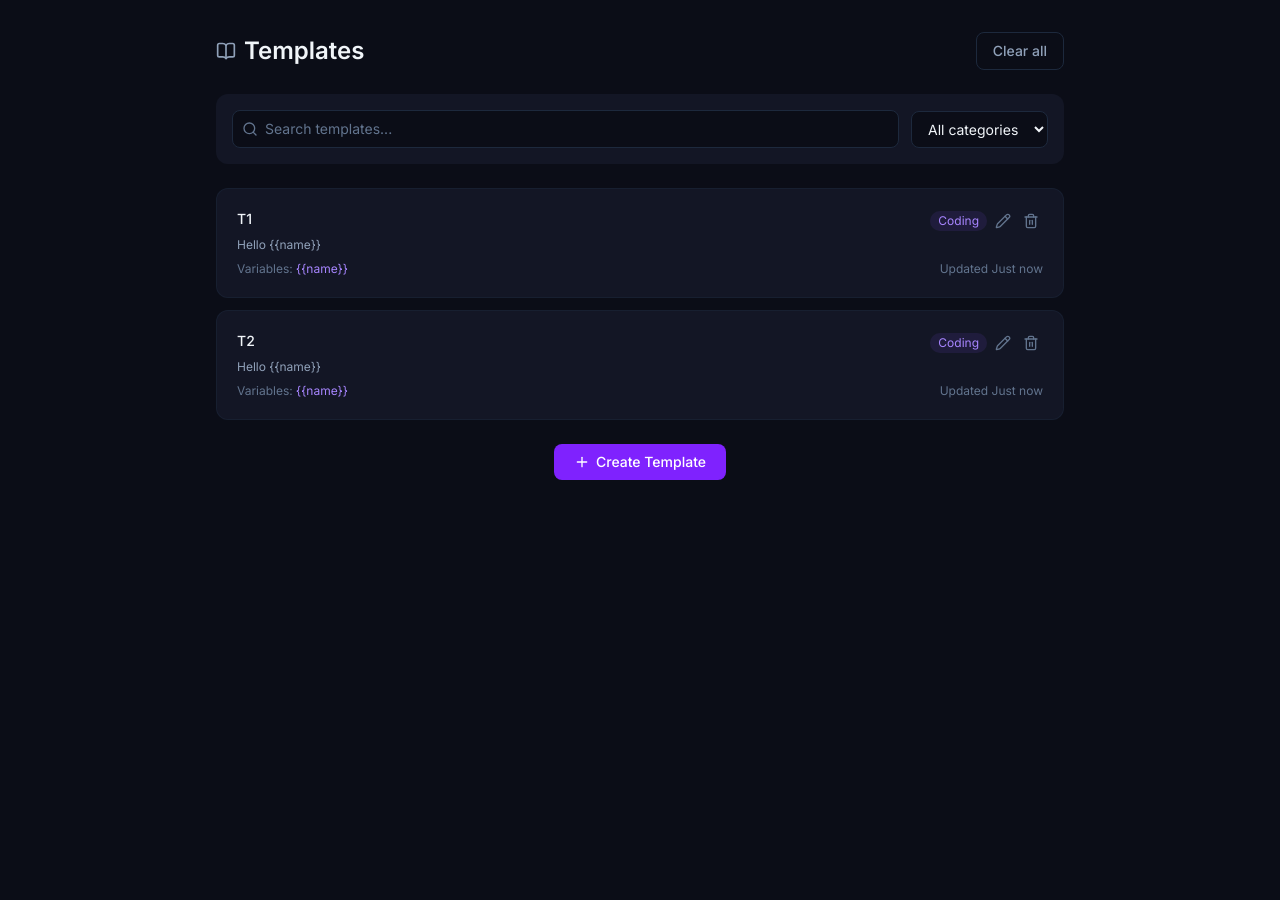
Test: TemplateLibraryPage › clear-all with confirmation (TC-L-10)
This screenshot has width=1280, height=900.
# Click Clear all
What coordinates should you click on to do the following:
click the button "Clear all"
I would click on:
 (1020, 51)
Its box is 976,32 -> 1064,70.
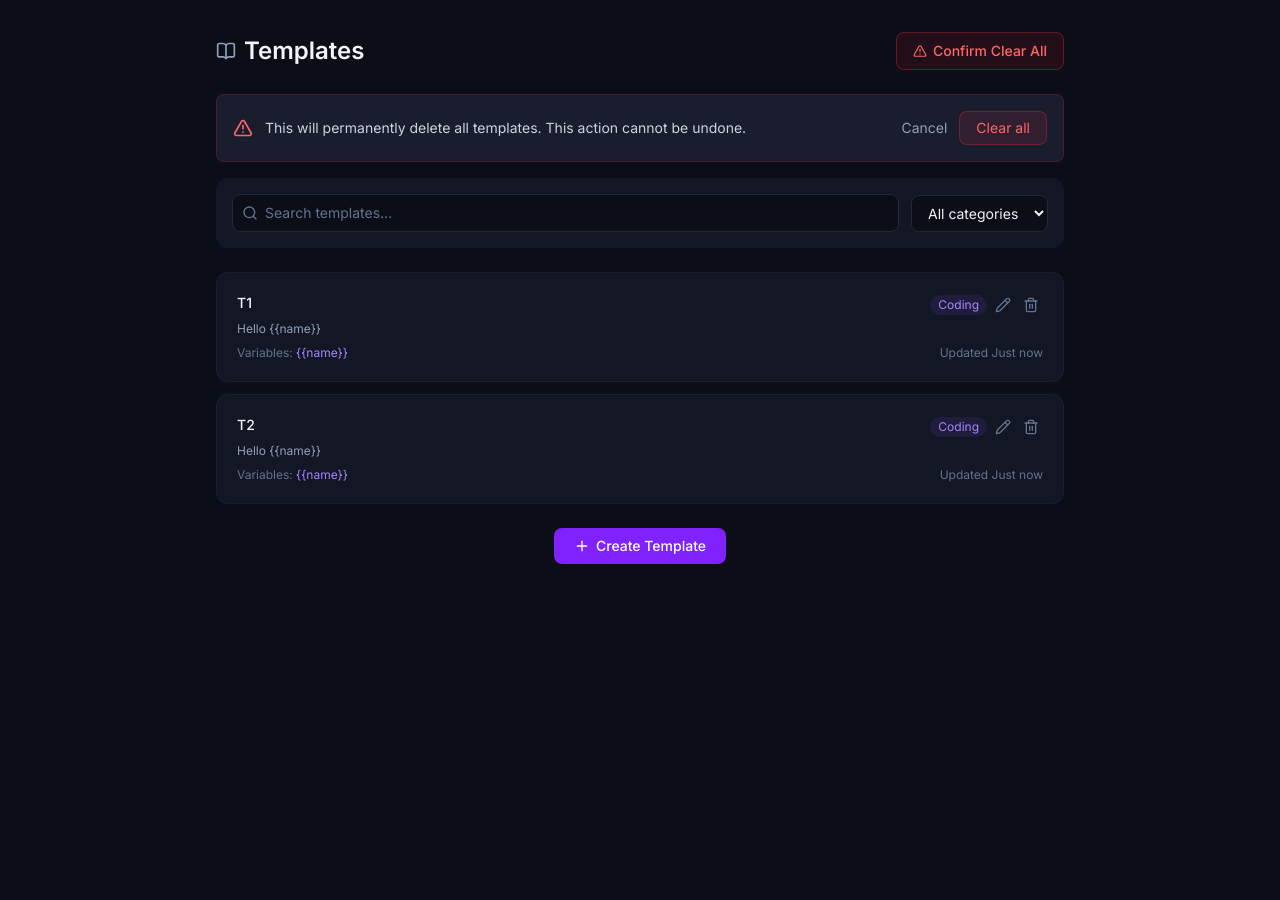
Expected: the button "Confirm Clear All" is shown
What coordinates should you click on to do the following:
click the button "Confirm Clear All"
I would click on:
 (980, 51)
Its box is 896,32 -> 1064,70.
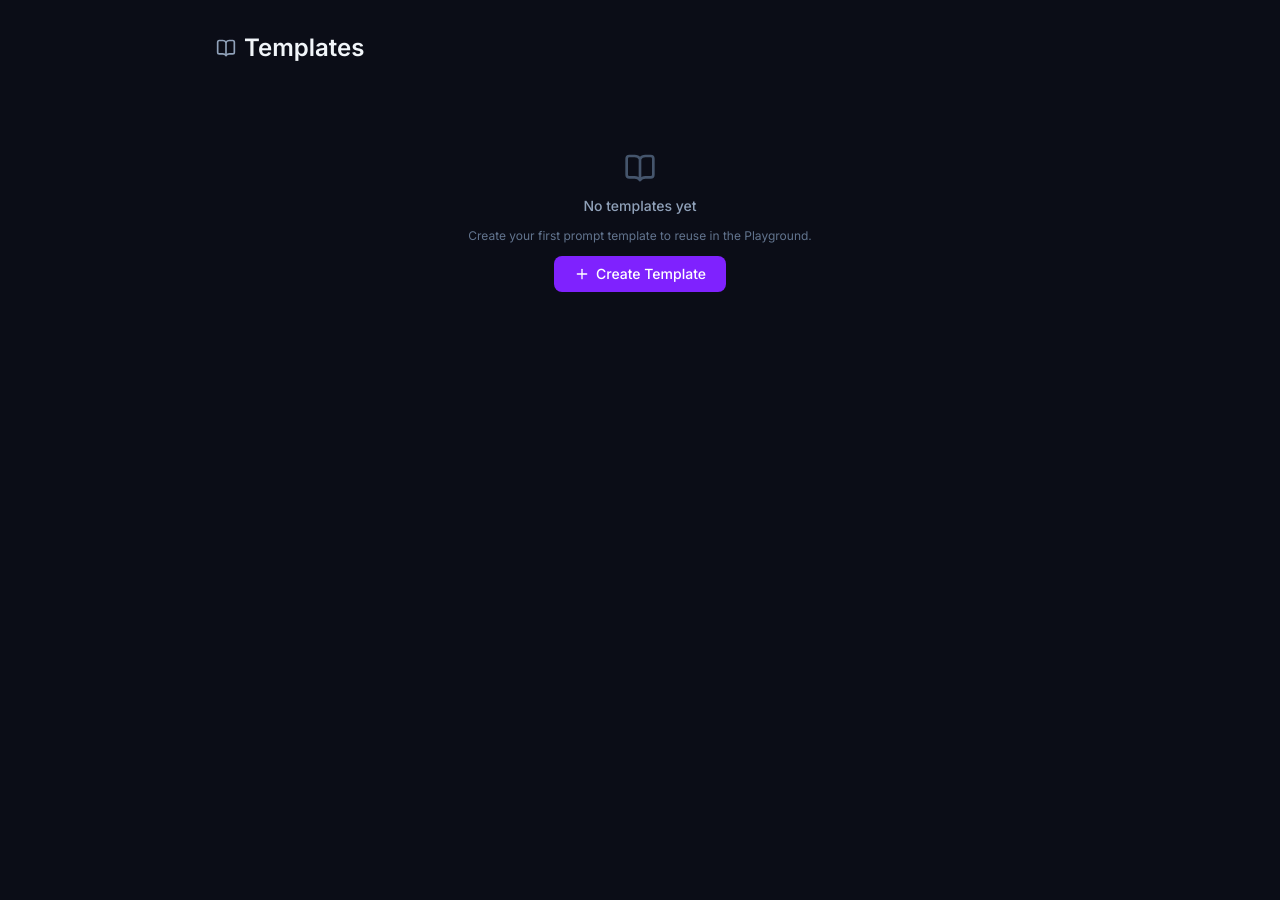
Expected: the text "T1" is gone
Expected: the text "T2" is gone
Expected: the text "No templates yet" is shown, 583,196 -> 696,216
